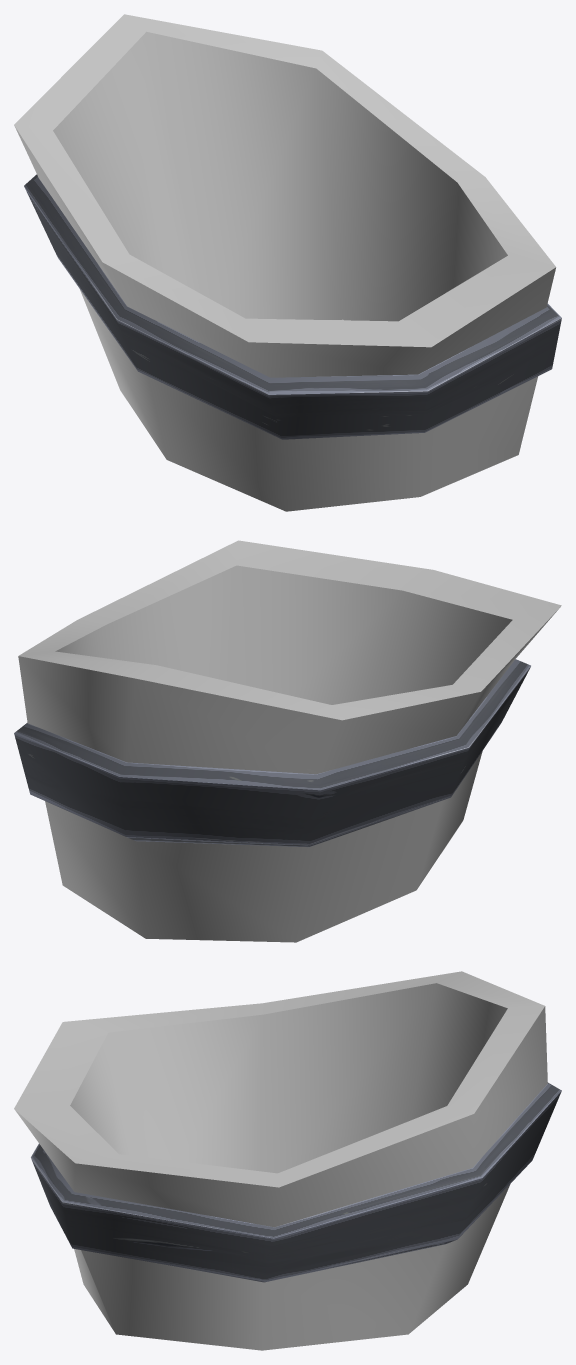
Rendered from SM_PROP_bucket_01.fbx.
The picture shows the model from 3 angles, top to bottom: view 1: azimuth 30°, elevation 25°; view 2: azimuth 150°, elevation 25°; view 3: azimuth 270°, elevation 25°; orthographic projection. The views are drawn at different scales.
Parts seen in each view (by area): view 1: SM_PROP_bucket_01; view 2: SM_PROP_bucket_01; view 3: SM_PROP_bucket_01.
Boxes of the visible parts, <box> form: SM_PROP_bucket_01: <box>14,14,561,511</box>; SM_PROP_bucket_01: <box>14,540,561,942</box>; SM_PROP_bucket_01: <box>14,971,561,1350</box>.
Size of the model in its own units: 66.67 by 48.58 by 91.49.
